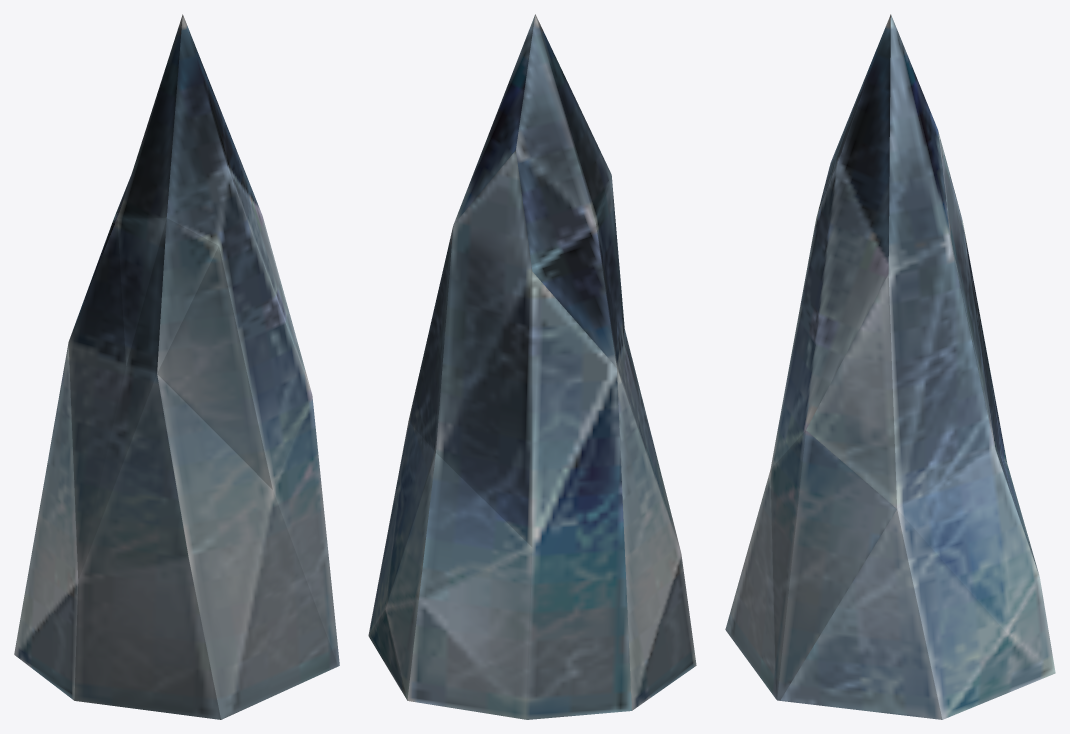
The model's file is SpikeSingle1.fbx.
3 renders of one model, left to right at view 1: azimuth 30°, elevation 25°; view 2: azimuth 150°, elevation 25°; view 3: azimuth 270°, elevation 25°, orthographic.
Visible parts, largest first — view 1: VFX_Mesh_Object101; view 2: VFX_Mesh_Object101; view 3: VFX_Mesh_Object101.
Boxes of the visible parts, box(x1,y1,x2,y2) form: VFX_Mesh_Object101: box(14, 14, 339, 719); VFX_Mesh_Object101: box(368, 14, 696, 719); VFX_Mesh_Object101: box(725, 14, 1055, 719).
Bounding box in the file's own units: 24.03 × 53.03 × 24.9.
